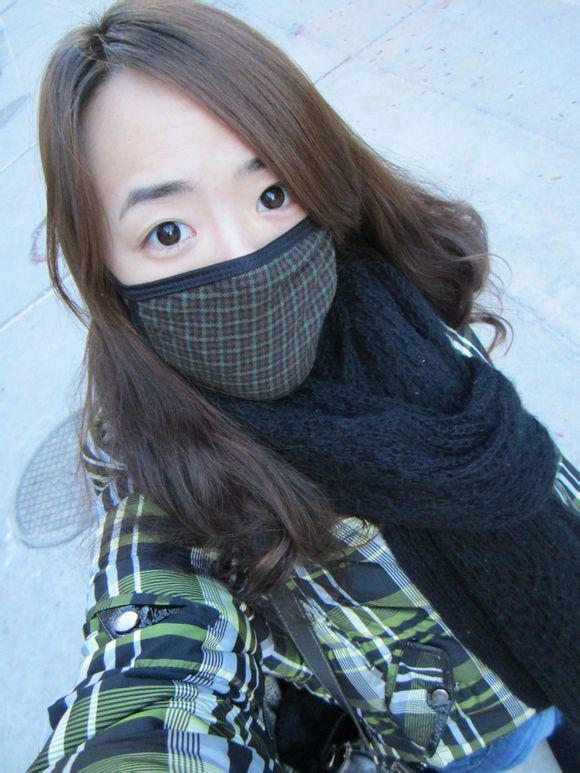OK: (118, 154, 339, 401)
